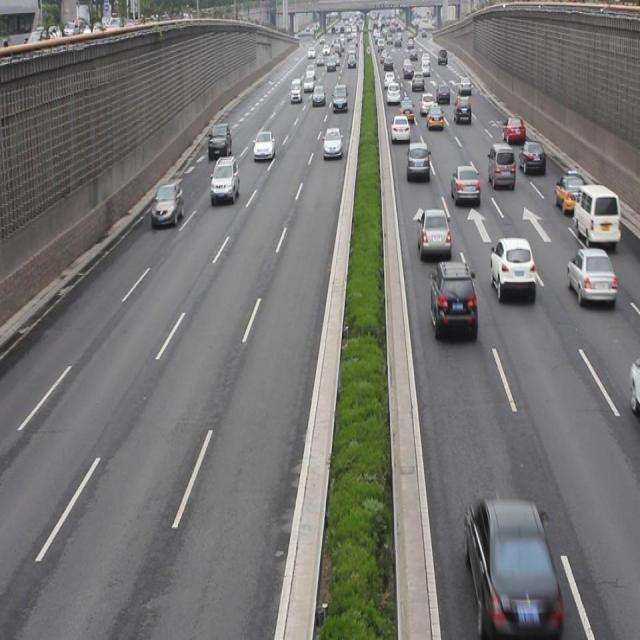car: (464, 496, 561, 630), (429, 258, 477, 342), (489, 236, 536, 300), (566, 247, 616, 304), (416, 208, 451, 260), (151, 181, 184, 229), (210, 155, 240, 203), (554, 171, 586, 215), (450, 164, 480, 208), (406, 139, 430, 181), (519, 137, 544, 175), (207, 122, 232, 157), (252, 128, 274, 162), (502, 113, 525, 145), (322, 125, 342, 159), (390, 114, 410, 144), (454, 96, 471, 123), (427, 103, 444, 130), (398, 98, 414, 121)
truck: (572, 183, 619, 246), (487, 142, 515, 190)
